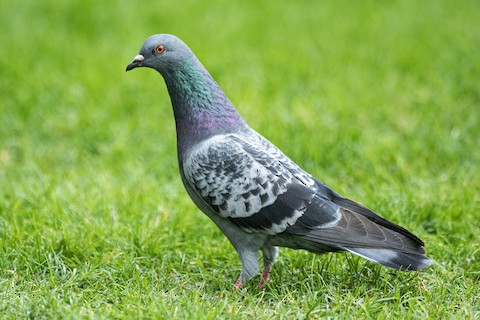pigeon: (122, 30, 438, 301)
